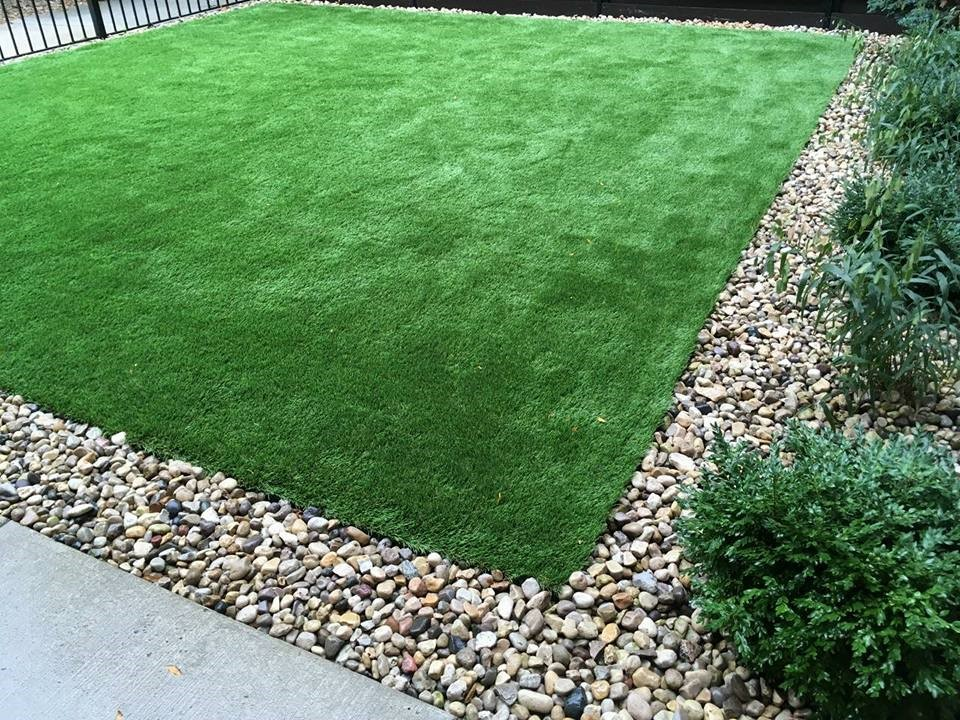grass: (5, 34, 863, 574)
rock: (614, 76, 908, 534), (331, 542, 785, 718), (0, 397, 328, 640)
